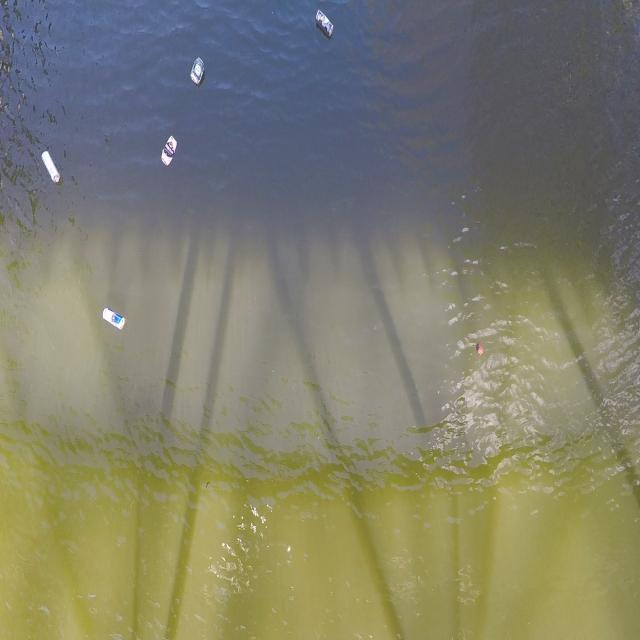Non plastique: (36, 147, 67, 191), (156, 134, 182, 173), (100, 302, 126, 338), (185, 53, 207, 95), (308, 9, 336, 42)
